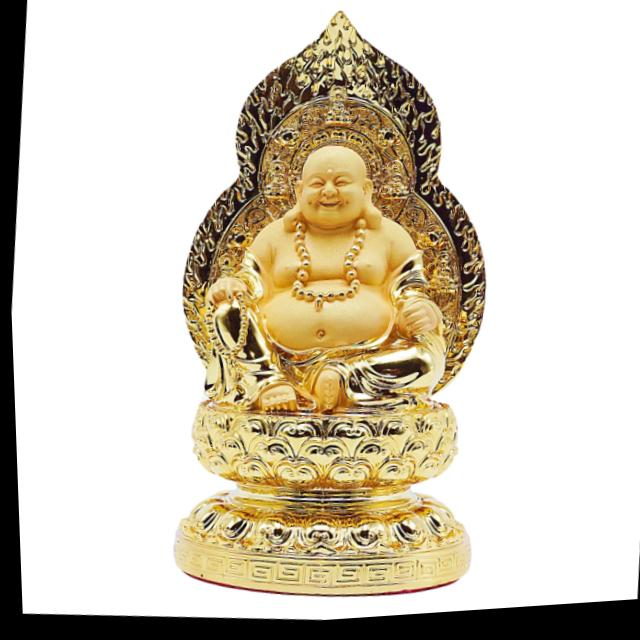Smiling Buddha: (193, 131, 467, 435)
